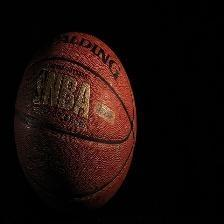Sports-Ball: (13, 34, 139, 208)
